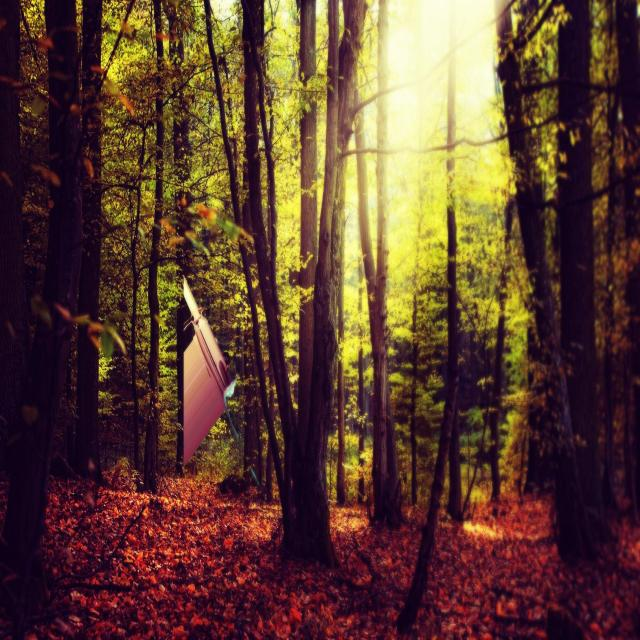airplane: (183, 276, 238, 458)
